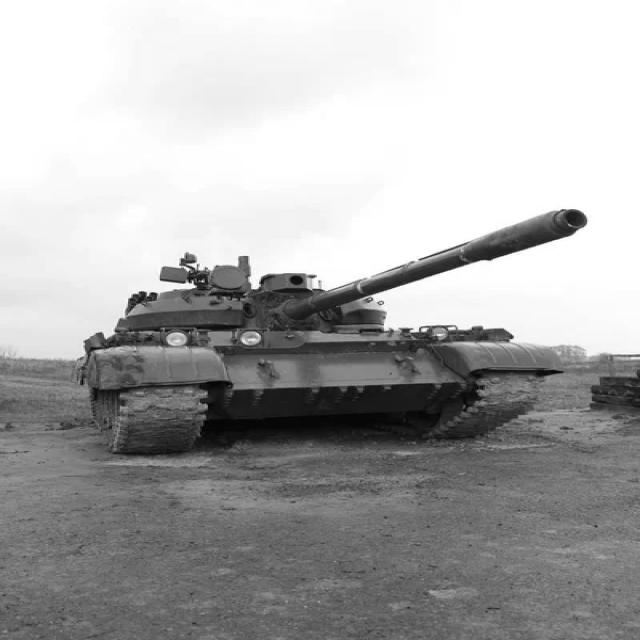Tank: (77, 200, 605, 458)
